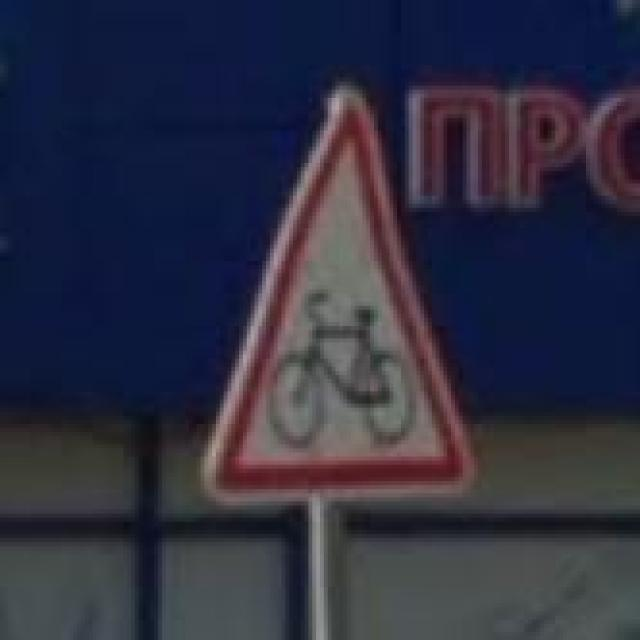traffic_sign: (201, 81, 478, 502)
